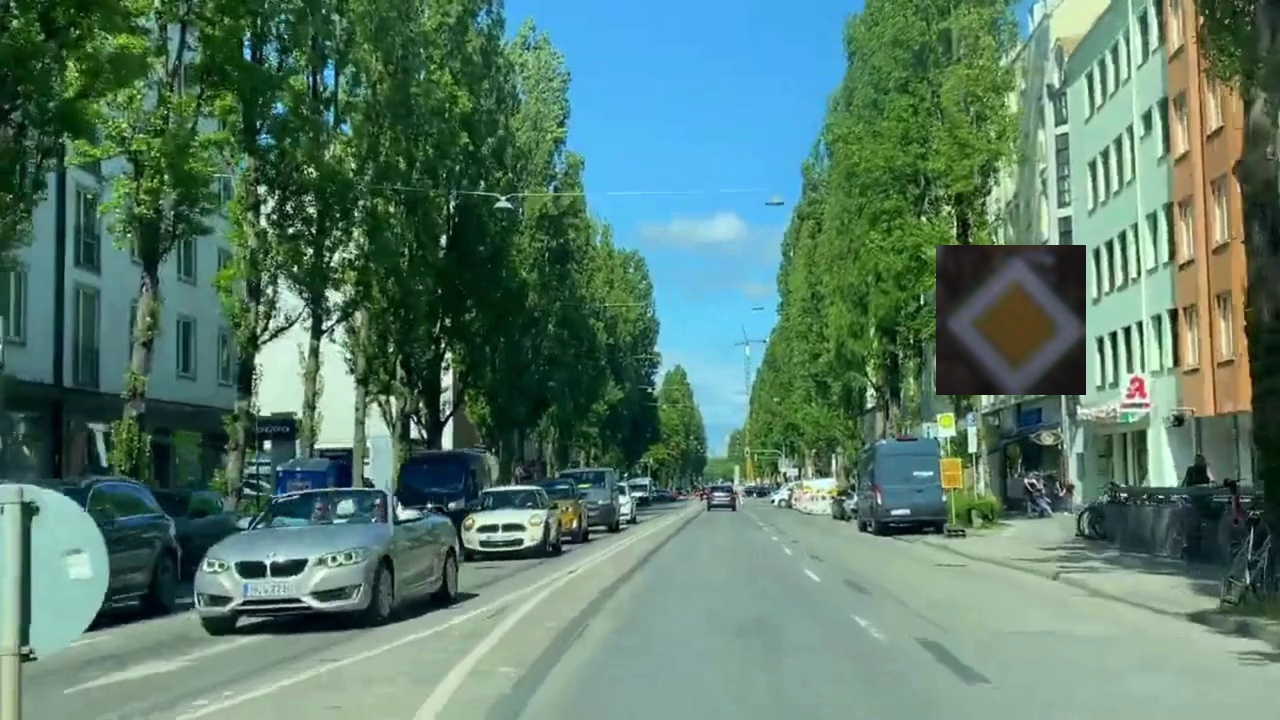Priority road: (936, 245, 1086, 395)
